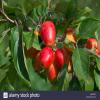Apple leaf: (9, 25, 34, 89), (69, 45, 93, 88), (77, 11, 99, 41), (65, 0, 79, 33), (56, 61, 70, 90), (26, 28, 40, 52)
